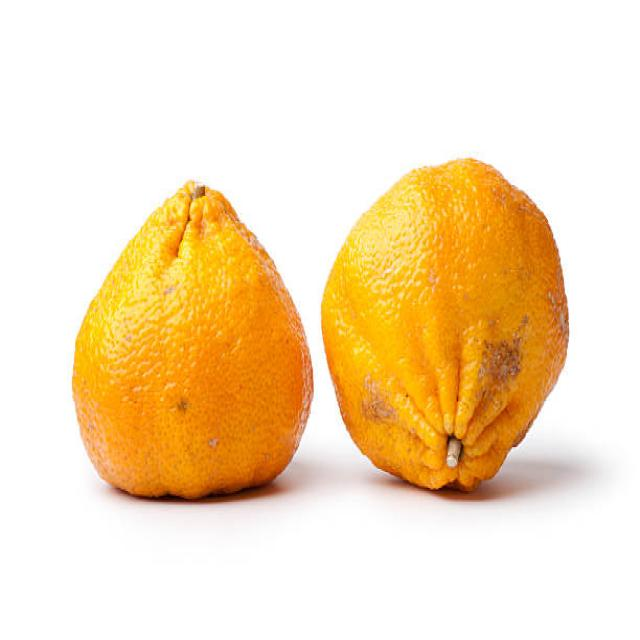overripe: (321, 148, 574, 499), (68, 165, 315, 506)
